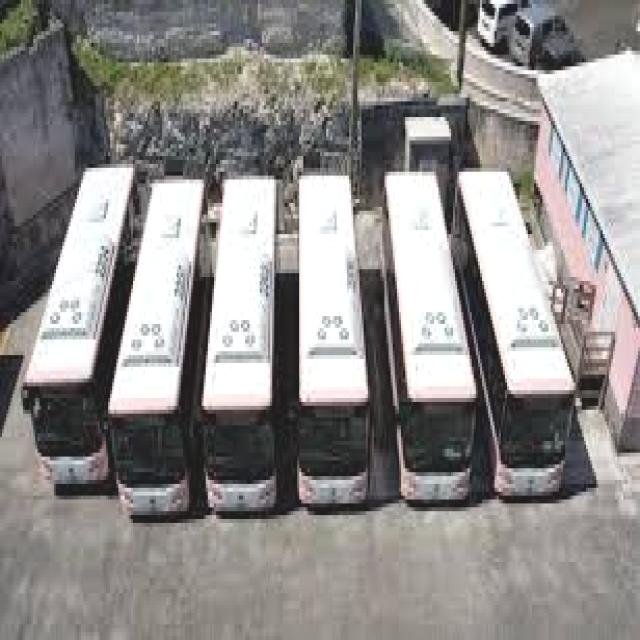bus: (455, 172, 578, 500), (25, 164, 146, 481), (109, 176, 215, 518), (379, 169, 479, 500), (204, 172, 288, 515), (299, 174, 370, 503)
